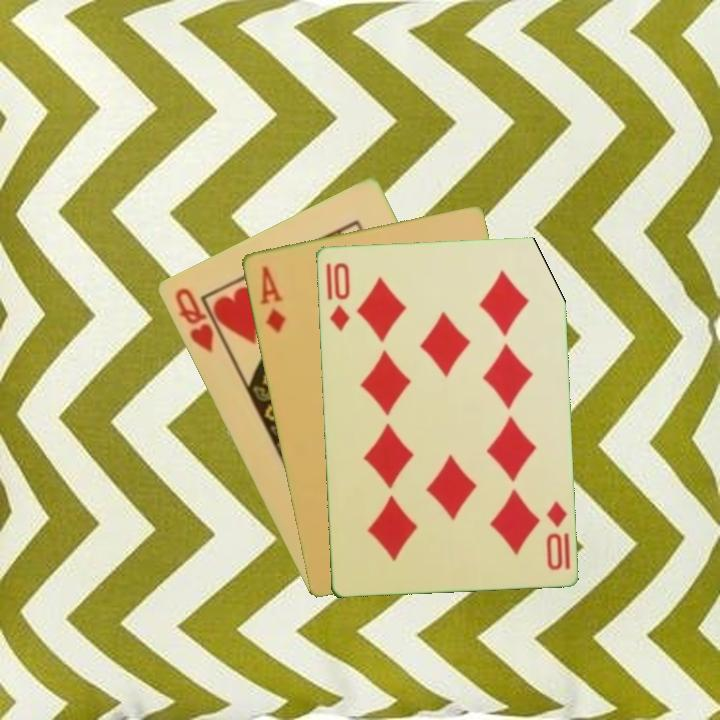10d: (542, 497, 573, 573), (322, 258, 352, 334)
Ad: (256, 262, 289, 335)
Qh: (171, 284, 216, 356)
